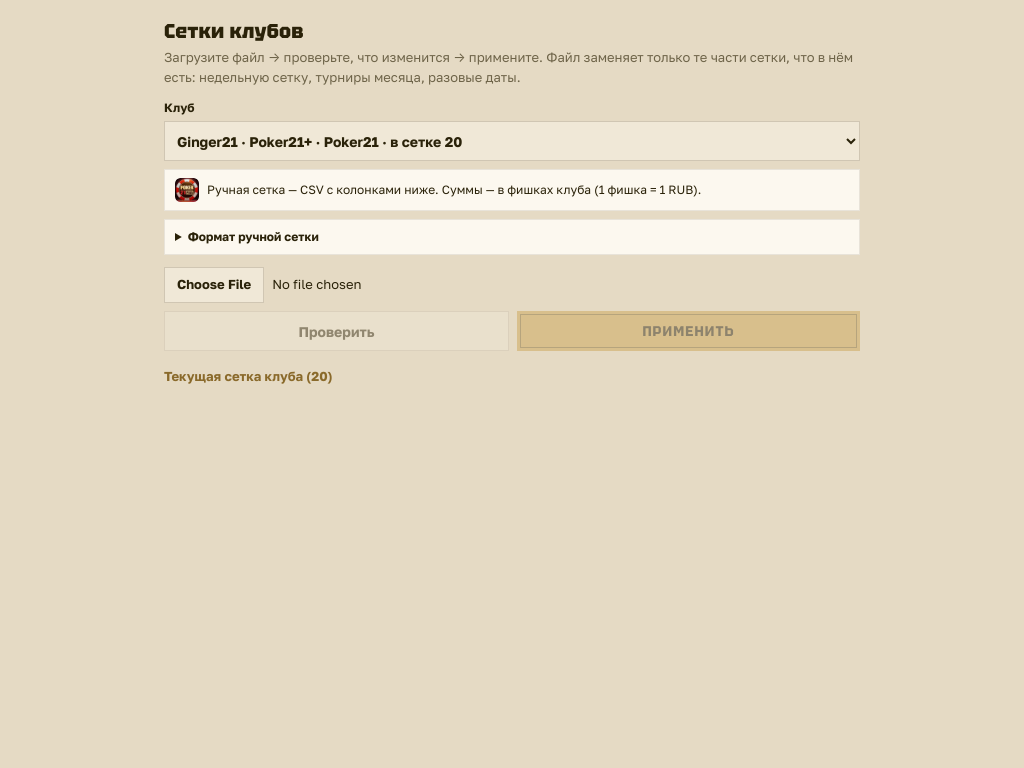
AdminGridImportPage › удаление турнира из сетки с подтверждением
Click the button "Текущая сетка клуба (20)" at (248, 377), box [164,367,333,386]
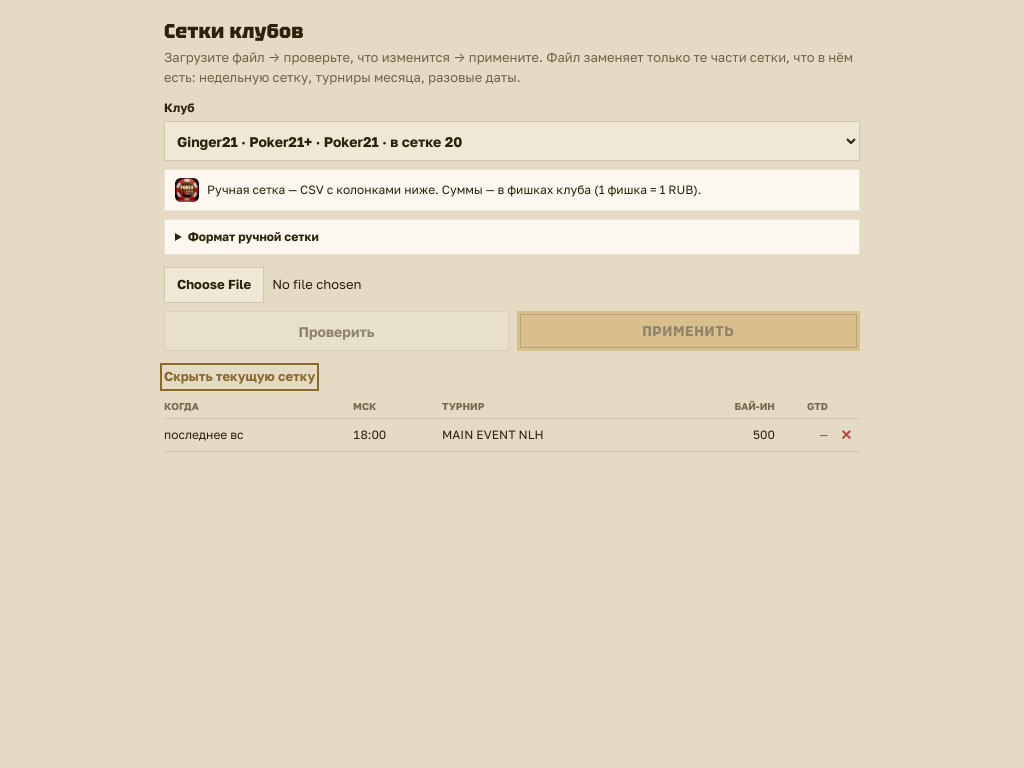
Click the button named "Удалить MAIN EVENT NLH" at (846, 434), box [832,420,860,448]
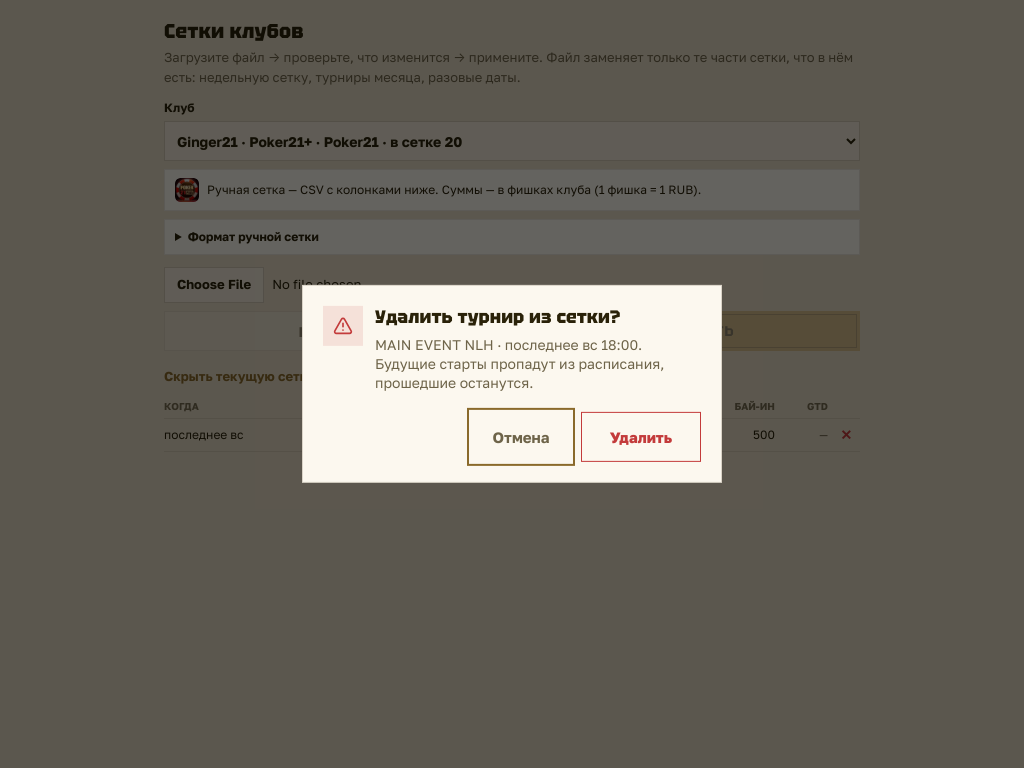
Result: the text "последнее вс 18:00" is shown at [375,335,664,391]
Click the button "Удалить" at (641, 437), box [581,412,701,462]
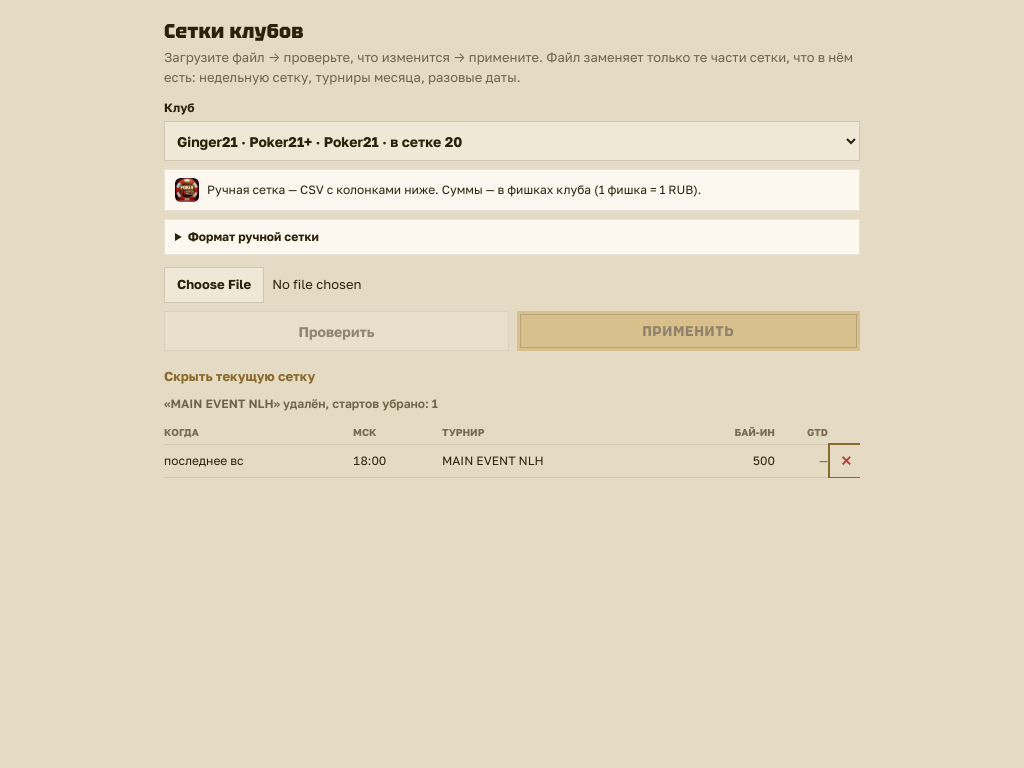
Result: the text "«MAIN EVENT NLH» удалён, стартов убрано: 1" is shown at [164,396,438,410]
